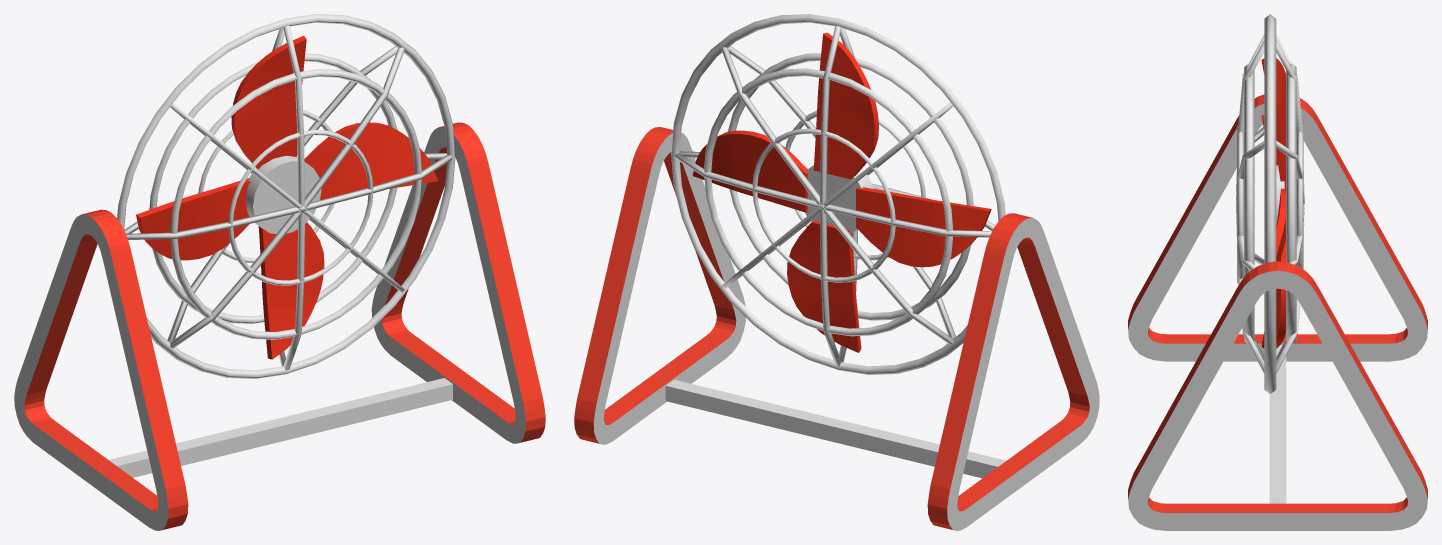
The model's file is Fan A.fbx.
The picture shows the model from 3 angles, left to right: view 1: azimuth 30°, elevation 25°; view 2: azimuth 150°, elevation 25°; view 3: azimuth 270°, elevation 25°; orthographic projection. The views are drawn at different scales.
Visible parts, largest first — view 1: Fan A, Fan Blades A; view 2: Fan A, Fan Blades A; view 3: Fan A, Fan Blades A.
Boxes of the visible parts, x1,y1,x2,y2 form: Fan A: (14,14,545,530); Fan Blades A: (136,35,438,359); Fan A: (574,14,1099,530); Fan Blades A: (692,32,991,352); Fan A: (1128,14,1427,530); Fan Blades A: (1261,58,1285,348).
Size of the model in its own units: 2.29 by 2.46 by 1.63.
